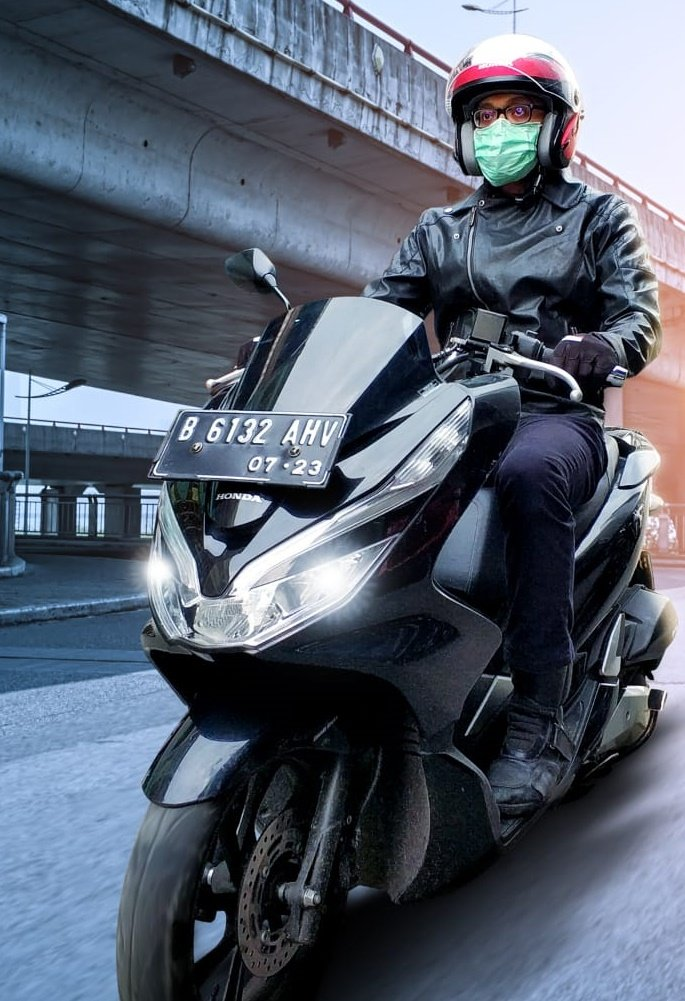motor: (109, 297, 678, 1000)
